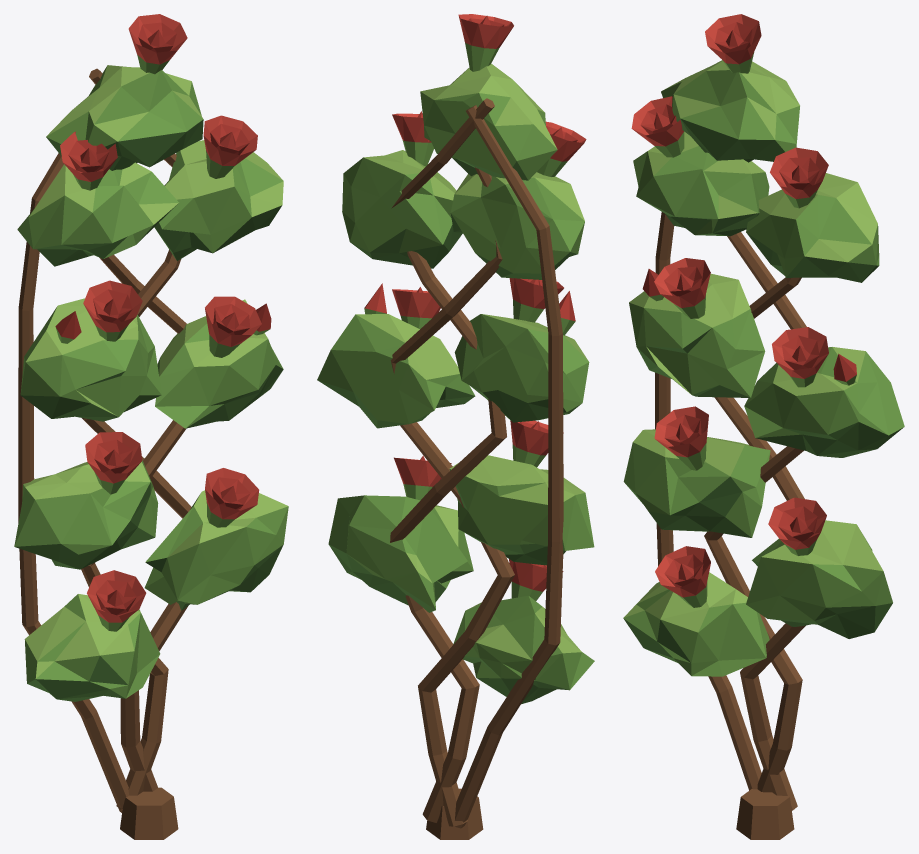
The model's file is FMS_Garden_Rose_Climbing_Side.fbx.
3 views of the same model, side by side, from view 1: azimuth 30°, elevation 25°; view 2: azimuth 150°, elevation 25°; view 3: azimuth 330°, elevation 25° (orthographic). The views are drawn at different scales.
Parts seen in each view (by area): view 1: FMS_Garden_Rose_Climbing_Side_Body; view 2: FMS_Garden_Rose_Climbing_Side_Body; view 3: FMS_Garden_Rose_Climbing_Side_Body.
Part boxes in pixels (x1,y1,x2,y2): FMS_Garden_Rose_Climbing_Side_Body: (14,14,288,839); FMS_Garden_Rose_Climbing_Side_Body: (317,14,594,839); FMS_Garden_Rose_Climbing_Side_Body: (623,14,904,839).
Size of the model in its own units: 0.6957 by 2.01 by 0.2371.
Materials: 1 (1 with a texture image).
